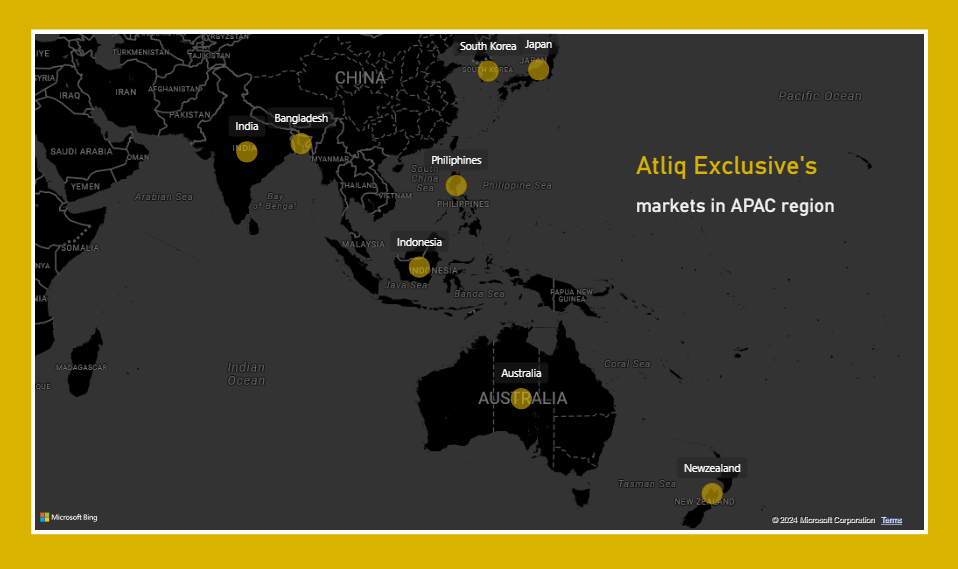

Layout of this report page (visuals, bound fields, positions):
{"tool":"powerbi","page":{"name":"Q1","canvas":[1280,720],"ordinal":0},"visuals":[{"type":"map","fields":{"Category":["dim_customer.market"]},"box":[126.7,71.7,1025,576.7],"z":0},{"type":"textbox","box":[812.7,204.5,252.7,116.4],"z":1000}]}

Visuals, with their boxes on the page's 1280x720 design canvas (x1, y1, x2, y2). These are canvas units, not pixel positions in the 958x569 screenshot, which may show the page scaled, cropped or inside an application window:
map - dim_customer.market: [127, 72, 1152, 648]
textbox: [813, 204, 1065, 321]
